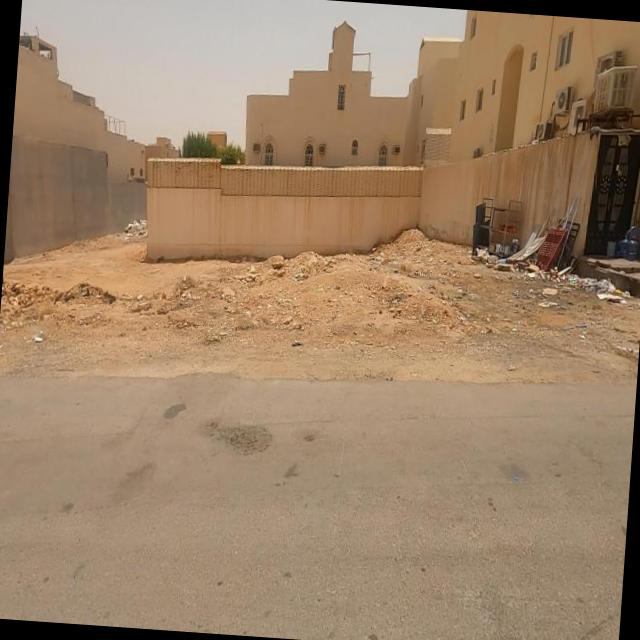debris: (474, 148, 623, 342), (424, 136, 566, 322), (528, 225, 640, 351), (112, 186, 164, 262)
